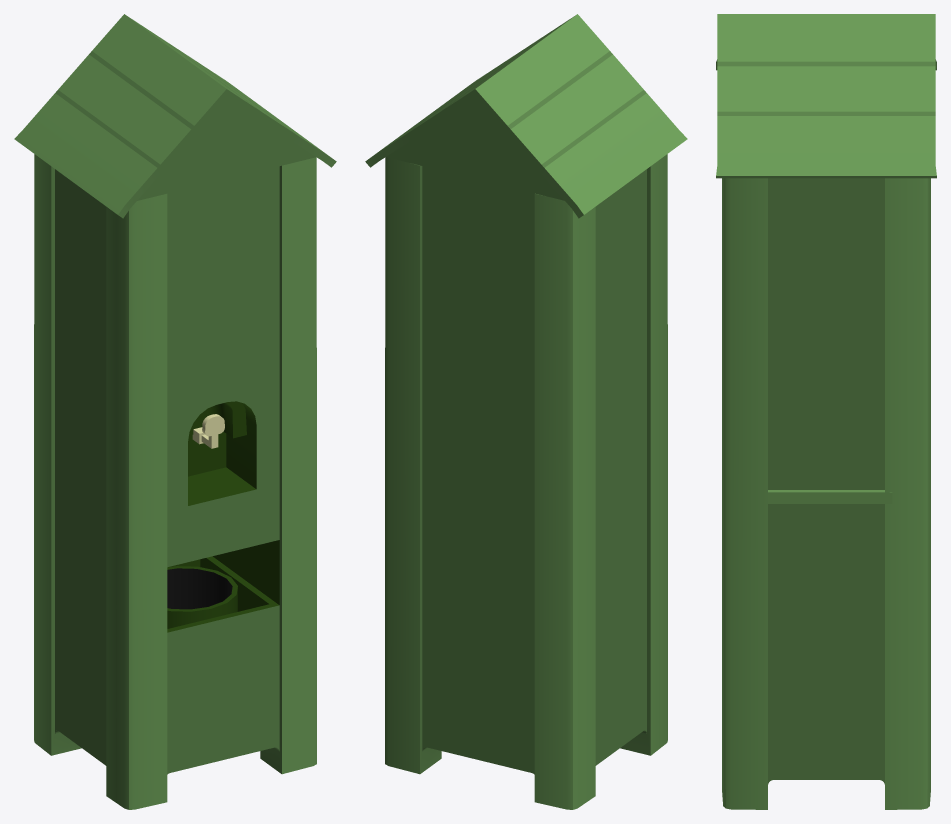
Rendered from drink station.glb.
The picture shows the model from 3 angles, left to right: view 1: azimuth 30°, elevation 25°; view 2: azimuth 150°, elevation 25°; view 3: azimuth 270°, elevation 25°; orthographic projection. The views are drawn at different scales.
Parts seen in each view (by area): view 1: Cube.002; view 2: Cube.002; view 3: Cube.002.
Part boxes in pixels (box(x1,y1,x2,y2)): Cube.002: box(14, 14, 336, 809); Cube.002: box(365, 14, 687, 809); Cube.002: box(716, 14, 936, 809).
Bounding box in the file's own units: 0.6904 × 2.11 × 0.567.
